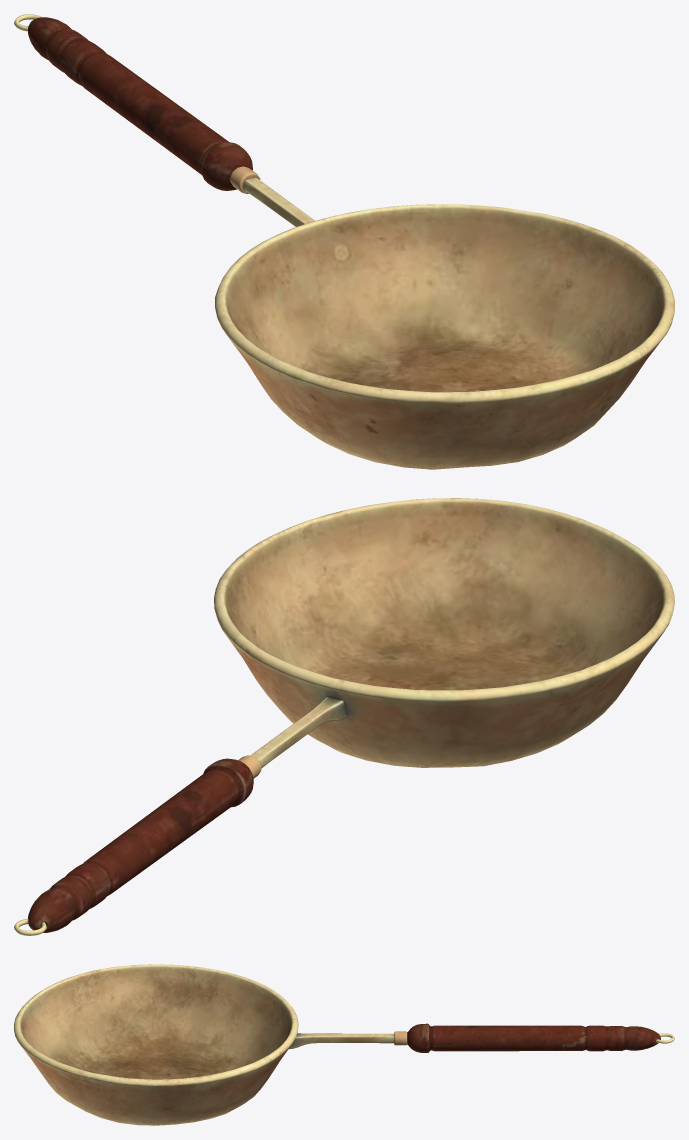
File: brass_pan_01.glb
The picture shows the model from 3 angles, top to bottom: view 1: azimuth 30°, elevation 25°; view 2: azimuth 150°, elevation 25°; view 3: azimuth 270°, elevation 25°; orthographic projection. The views are drawn at different scales.
Parts seen in each view (by area): view 1: brass_pan_01; view 2: brass_pan_01; view 3: brass_pan_01.
Part boxes in pixels (x1,y1,x2,y2): brass_pan_01: (14,14,674,469); brass_pan_01: (14,498,674,935); brass_pan_01: (14,964,674,1125).
Bounding box in the file's own units: 0.1913 × 0.0525 × 0.4497.
1 material, 1 textured.
